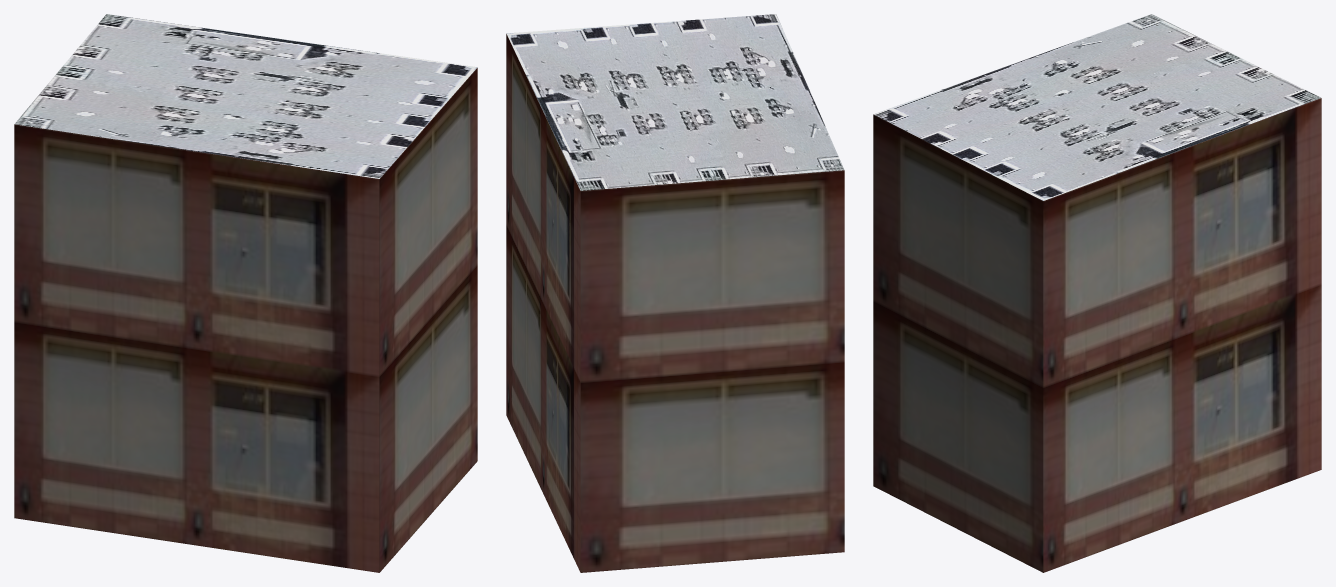
Rendered from ResTex__2715.fbx.
3 views of the same model, side by side, from view 1: azimuth 30°, elevation 25°; view 2: azimuth 150°, elevation 25°; view 3: azimuth 270°, elevation 25° (orthographic). The views are drawn at different scales.
Parts seen in each view (by area): view 1: CityEngineMaterial_13_m, CityEngineMaterial_4_m; view 2: CityEngineMaterial_13_m, CityEngineMaterial_4_m; view 3: CityEngineMaterial_13_m, CityEngineMaterial_4_m.
Part boxes in pixels (x1,y1,x2,y2): CityEngineMaterial_13_m: [14, 68, 477, 572]; CityEngineMaterial_4_m: [14, 14, 477, 178]; CityEngineMaterial_13_m: [506, 34, 844, 572]; CityEngineMaterial_4_m: [506, 14, 844, 190]; CityEngineMaterial_13_m: [873, 98, 1321, 572]; CityEngineMaterial_4_m: [874, 14, 1320, 200].
Size of the model in its own units: 6.48 by 6 by 6.56.
Materials: 2 (2 with a texture image).
